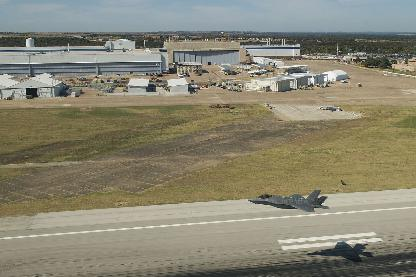F22: (247, 188, 329, 211)
